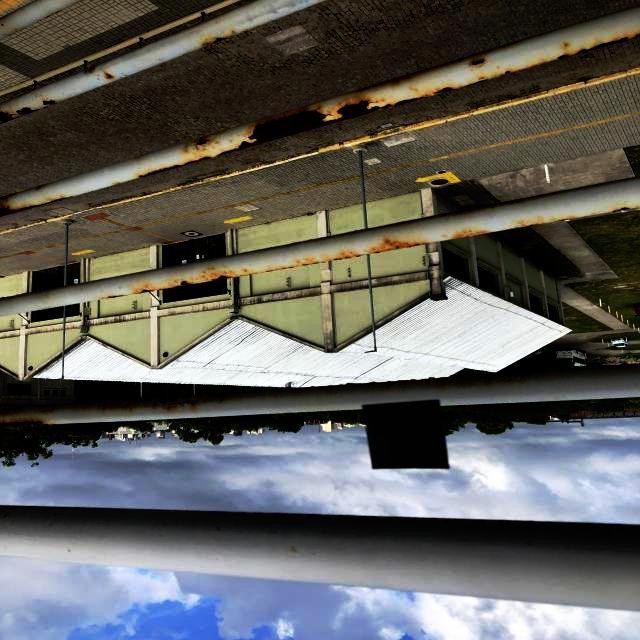Corrosion: (216, 86, 465, 156), (265, 238, 430, 272), (106, 269, 258, 298), (557, 33, 640, 60), (139, 156, 213, 178), (0, 196, 75, 217), (149, 393, 240, 410), (0, 100, 59, 125), (493, 60, 552, 79), (202, 34, 238, 48), (453, 231, 491, 238), (0, 421, 44, 427), (192, 137, 211, 150), (464, 78, 491, 87), (471, 59, 485, 66), (611, 207, 630, 212), (522, 224, 543, 227), (105, 73, 113, 79)
